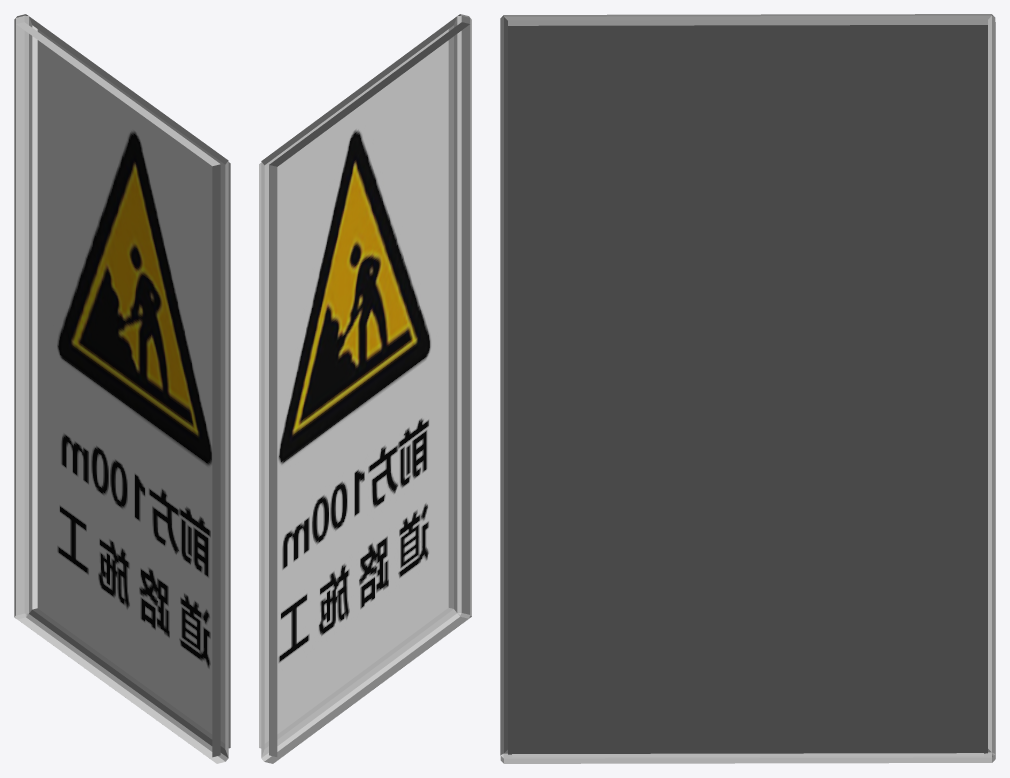
The picture shows the model from 3 angles, left to right: view 1: azimuth 30°, elevation 25°; view 2: azimuth 150°, elevation 25°; view 3: azimuth 270°, elevation 25°; orthographic projection. The views are drawn at different scales.
Visible parts, largest first — view 1: model17; view 2: model17; view 3: model17.
Boxes of the visible parts, x1,y1,x2,y2 form: model17: (14, 14, 230, 763); model17: (259, 14, 471, 763); model17: (500, 14, 995, 763).
Size of the model in its own units: 0.0927 by 2.46 by 1.49.
Materials: 2 (1 with a texture image).
